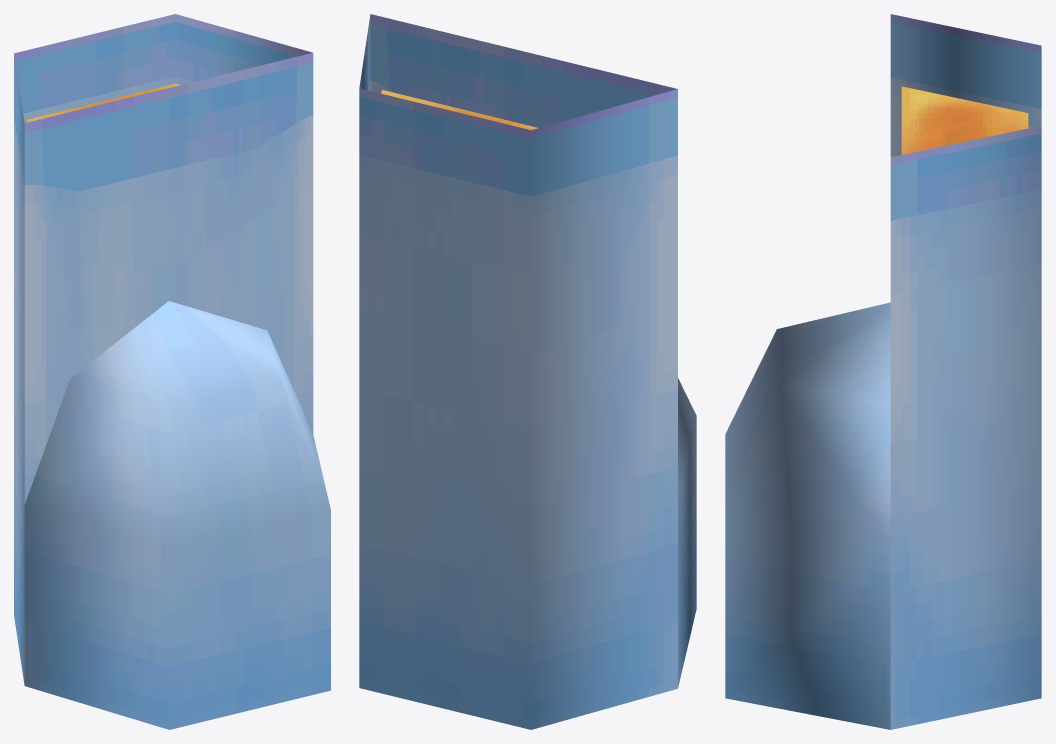
Rendered from edb_con_glass_s2_full_l1.fbx.
3 views of the same model, side by side, from view 1: azimuth 30°, elevation 25°; view 2: azimuth 150°, elevation 25°; view 3: azimuth 270°, elevation 25° (orthographic). The views are drawn at different scales.
Visible parts, largest first — view 1: mesh_node; view 2: mesh_node; view 3: mesh_node.
Boxes of the visible parts, x1,y1,x2,y2 form: mesh_node: (14, 14, 330, 729); mesh_node: (359, 14, 696, 729); mesh_node: (725, 14, 1041, 729).
Size of the model in its own units: 0.1073 by 0.2 by 0.1001.
1 material, 1 textured.
